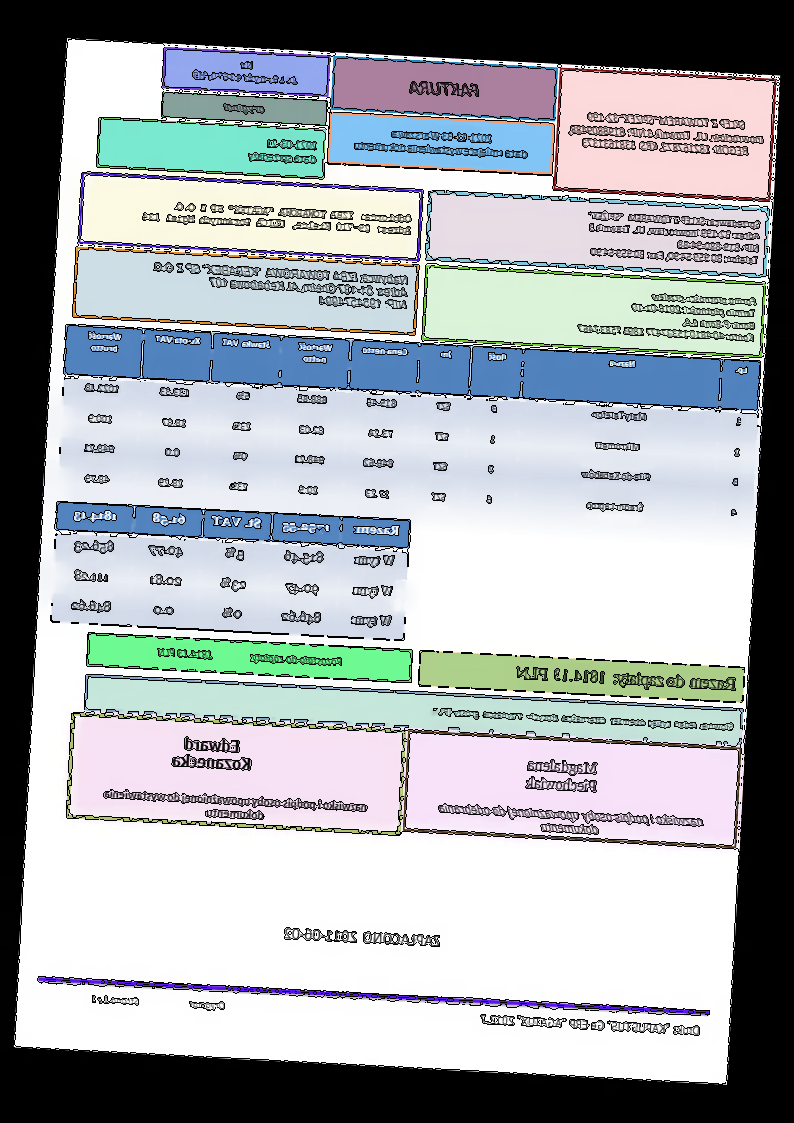Table: (55, 322, 765, 535), (48, 502, 413, 644)
TextBox: (145, 255, 414, 314), (99, 783, 371, 830), (138, 195, 415, 241), (425, 698, 740, 737), (434, 798, 708, 842), (575, 284, 760, 348), (585, 207, 764, 268), (564, 108, 769, 161), (516, 660, 742, 696), (477, 1009, 706, 1043), (351, 122, 532, 162), (277, 919, 445, 956), (152, 641, 346, 672), (169, 729, 256, 777), (189, 55, 302, 91), (88, 988, 230, 1014), (523, 754, 602, 798), (246, 131, 322, 171), (408, 75, 484, 101), (220, 100, 268, 118)
